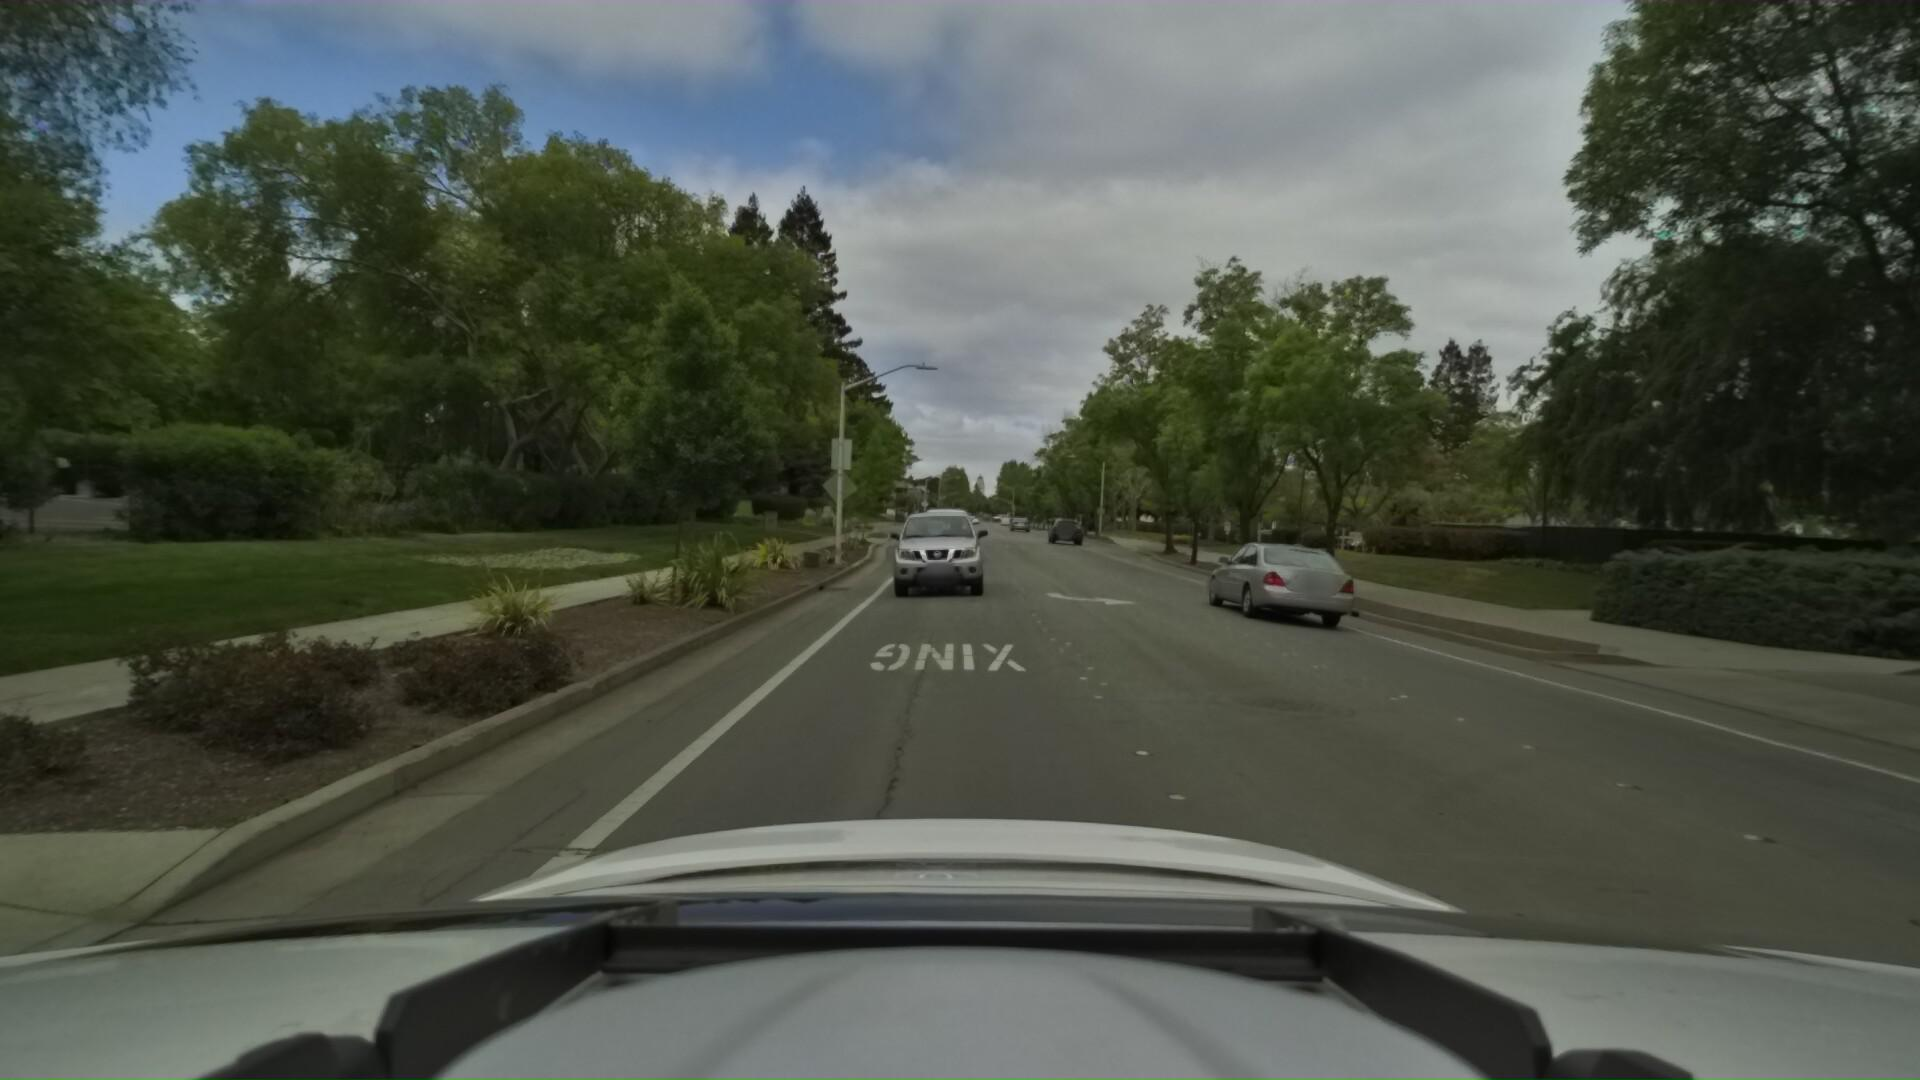car: (1197, 522, 1381, 637), (880, 496, 989, 601), (909, 497, 977, 559), (1044, 512, 1083, 543)
